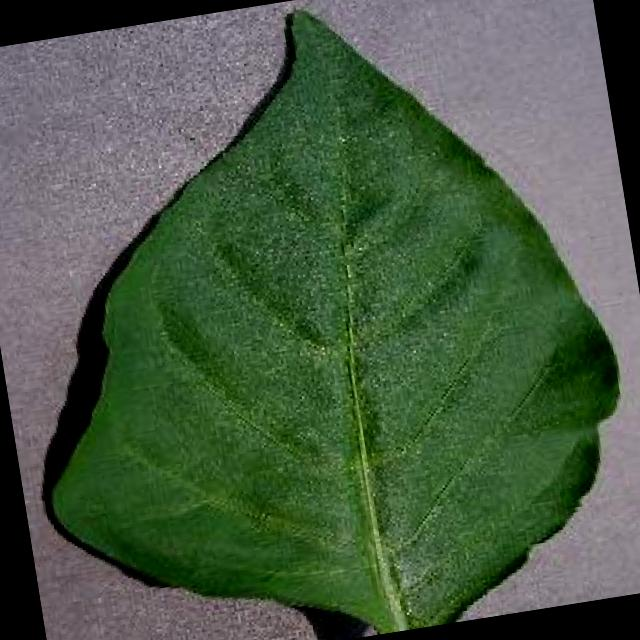healthy: (53, 12, 618, 631)
